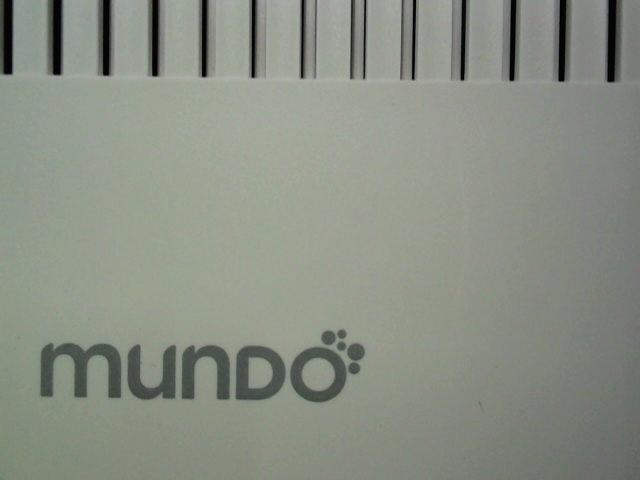BI_MUNDO: (26, 317, 374, 412)
